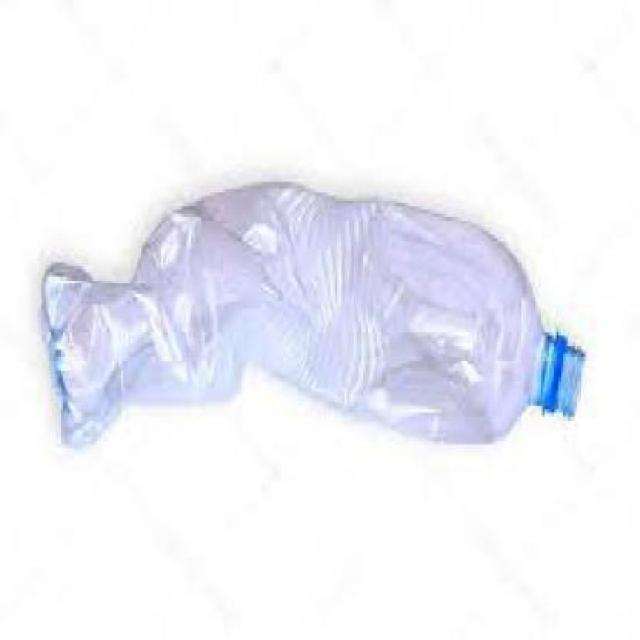PLASTIC: (37, 182, 585, 456)
